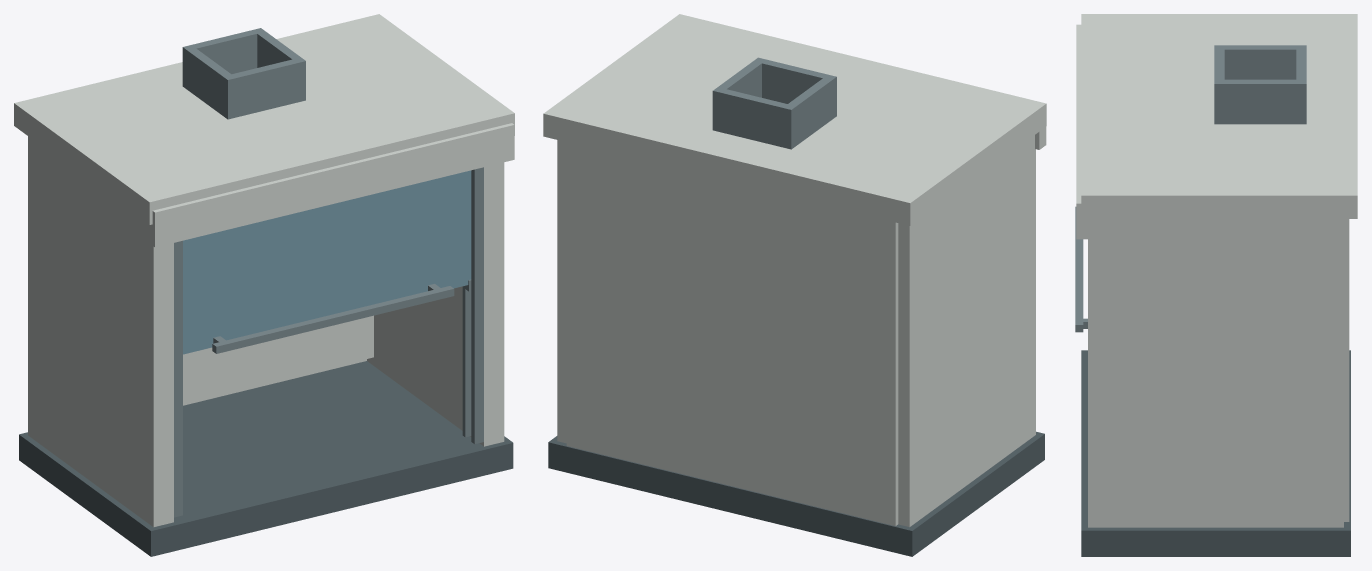
3 views of the same model, side by side, from view 1: azimuth 30°, elevation 25°; view 2: azimuth 150°, elevation 25°; view 3: azimuth 270°, elevation 25° (orthographic).
Visible parts, largest first — view 1: Roof_TrueOpenFrame, Shell_Left, Base_SolidWorkDeck, Sash_FixedOpaquePanel, Shell_Right, Fascia_FrontHeader, Roof_ShortOpenCollar, Baffle_RaisedRearPanel, Guide_Right_UChannel, Handle_FrontBar, Guide_Left_UChannel; view 2: Shell_RearWall, Roof_TrueOpenFrame, Shell_Left, Base_SolidWorkDeck, Roof_ShortOpenCollar, Shell_Right; view 3: Shell_Right, Roof_TrueOpenFrame, Base_SolidWorkDeck, Roof_ShortOpenCollar, Shell_RearWall, Fascia_FrontHeader, Handle_FrontBar.
Boxes of the visible parts, box(x1,y1,x2,y2) form: Roof_TrueOpenFrame: box(14, 14, 514, 224); Shell_Left: box(28, 136, 173, 527); Base_SolidWorkDeck: box(19, 361, 513, 556); Sash_FixedOpaquePanel: box(183, 170, 471, 354); Shell_Right: box(367, 162, 504, 446); Fascia_FrontHeader: box(148, 123, 514, 247); Roof_ShortOpenCollar: box(182, 28, 305, 119); Baffle_RaisedRearPanel: box(183, 315, 373, 403); Guide_Right_UChannel: box(462, 167, 483, 444); Handle_FrontBar: box(212, 286, 454, 353); Guide_Left_UChannel: box(174, 240, 182, 517); Shell_RearWall: box(566, 142, 898, 525); Roof_TrueOpenFrame: box(543, 14, 1046, 225); Shell_Left: box(898, 135, 1035, 526); Base_SolidWorkDeck: box(548, 431, 1044, 556); Roof_ShortOpenCollar: box(712, 57, 836, 149); Shell_Right: box(557, 140, 566, 443); Shell_Right: box(1088, 219, 1343, 527); Roof_TrueOpenFrame: box(1081, 14, 1357, 218); Base_SolidWorkDeck: box(1081, 350, 1350, 556); Roof_ShortOpenCollar: box(1214, 45, 1306, 124); Shell_RearWall: box(1344, 219, 1349, 521); Fascia_FrontHeader: box(1076, 24, 1089, 239); Handle_FrontBar: box(1075, 206, 1083, 332).
Size of the model in its own units: 1.26 by 1.3 by 0.828.
